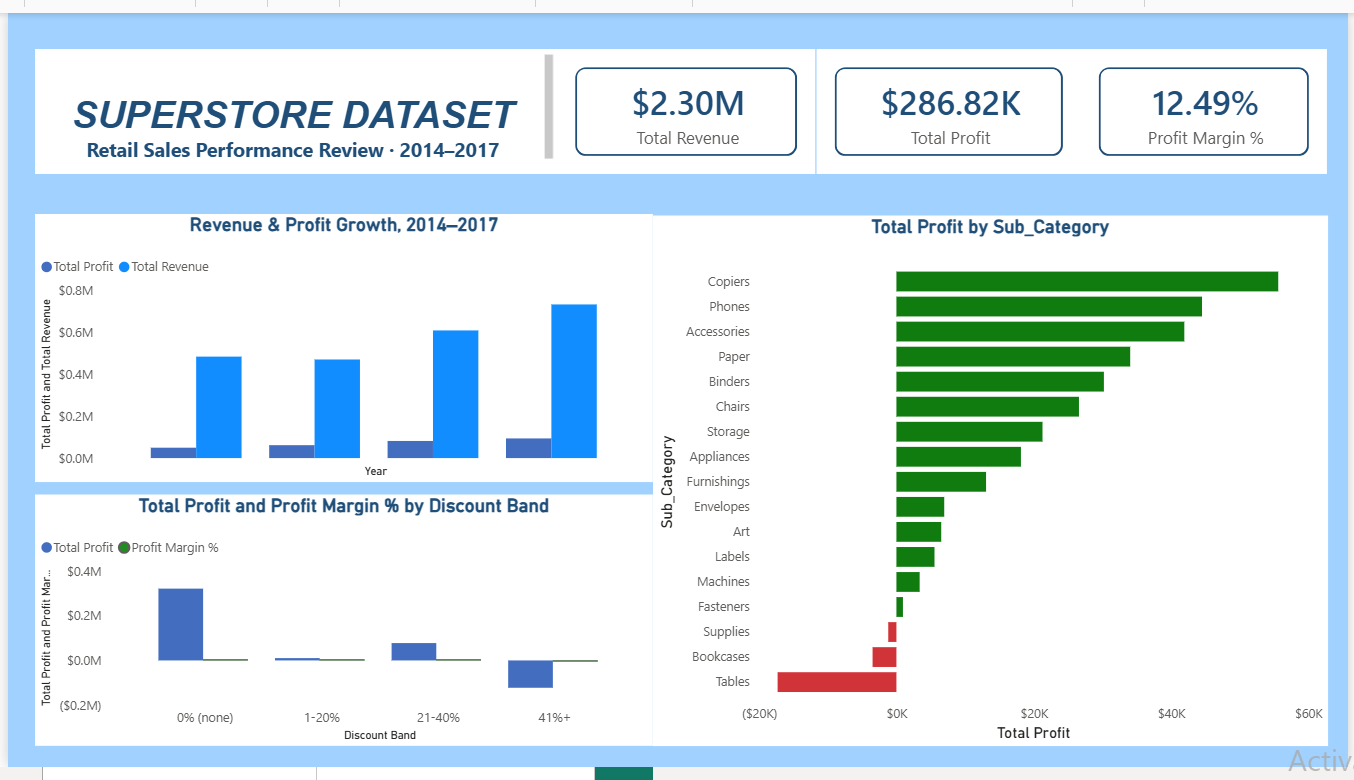

The page's visual inventory and layout, read from the dashboard file:
{"tool":"powerbi","page":{"name":"p1-sales-performance.png","canvas":[1280,720],"ordinal":0},"visuals":[{"type":"cardVisual","fields":{"Data":["vw_superstore_clean.Total Revenue"]},"box":[524.9,35,246.5,119.3],"z":0},{"type":"cardVisual","fields":{"Data":["vw_superstore_clean.Total Profit"]},"box":[771.4,35,252.9,119.3],"z":1000},{"type":"cardVisual","fields":{"Data":["vw_superstore_clean.Profit Margin %"]},"box":[1024.4,35,235.4,119.3],"z":2000},{"type":"clusteredColumnChart","title":"Revenue & Profit Growth, 2014–2017","fields":{"Category":["vw_superstore_clean.Order_Date.Variation.Date Hierarchy.Year","vw_superstore_clean.Order_Date.Variation.Date Hierarchy.Quarter","vw_superstore_clean.Order_Date.Variation.Date Hierarchy.Year","vw_superstore_clean.Order_Date.Variation.Date Hierarchy.Quarter"],"Y":["vw_superstore_clean.Total Profit","vw_superstore_clean.Total Revenue"]},"box":[25.4,192.5,590.1,256.1],"z":3000},{"type":"clusteredBarChart","fields":{"Category":["vw_superstore_clean.Sub_Category"],"Y":["vw_superstore_clean.Total Profit"]},"box":[615.9,191.9,643.1,507.1],"z":4000},{"type":"clusteredColumnChart","fields":{"Category":["vw_superstore_clean.Discount Band"],"Y":["vw_superstore_clean.Total Profit","vw_superstore_clean.Profit Margin %"]},"box":[25.4,459.7,590.1,240.2],"z":5000},{"type":"textbox","box":[25.4,35,499.5,119.3],"z":6000}]}

Visuals, with their boxes in screenshot pixels (x1, y1, x2, y2), scaled from the page's 1280x720 canvas onto the 1354x780 screenshot:
cardVisual - vw_superstore_clean.Total Revenue: rect(555, 38, 816, 167)
cardVisual - vw_superstore_clean.Total Profit: rect(816, 38, 1084, 167)
cardVisual - vw_superstore_clean.Profit Margin %: rect(1084, 38, 1333, 167)
"Revenue & Profit Growth, 2014–2017" clusteredColumnChart: rect(27, 209, 651, 486)
clusteredBarChart - vw_superstore_clean.Sub_Category x vw_superstore_clean.Total Profit: rect(652, 208, 1332, 757)
clusteredColumnChart - vw_superstore_clean.Discount Band x vw_superstore_clean.Total Profit: rect(27, 498, 651, 758)
textbox: rect(27, 38, 555, 167)
